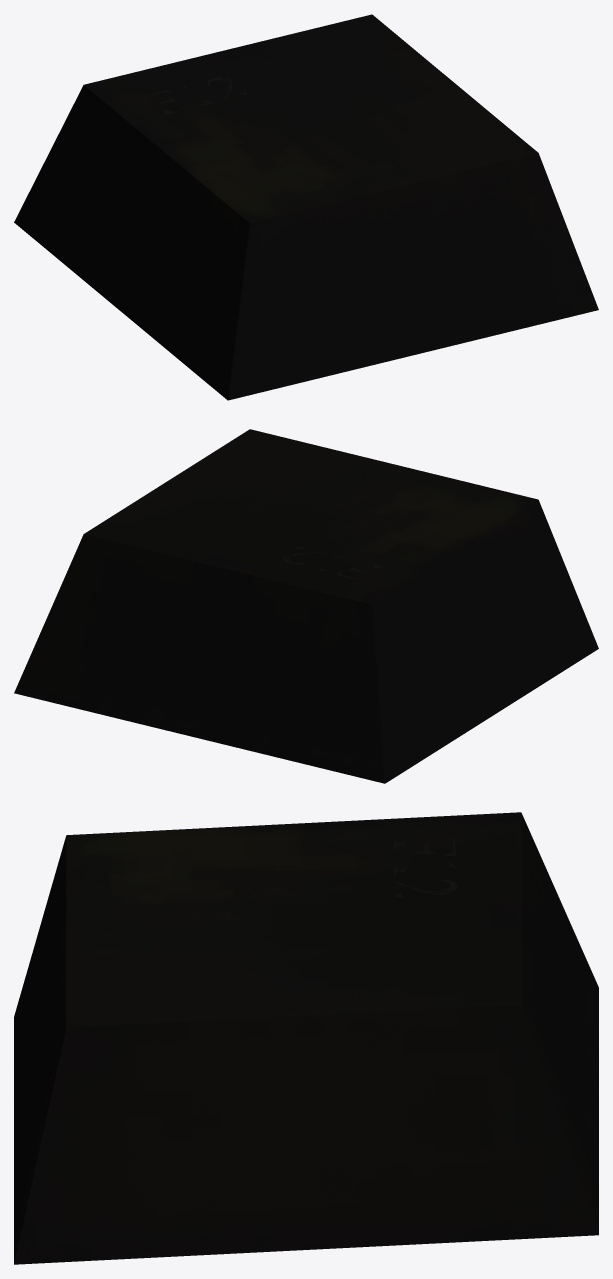
File: link_69__key-75.glb
The picture shows the model from 3 angles, top to bottom: view 1: azimuth 30°, elevation 25°; view 2: azimuth 150°, elevation 25°; view 3: azimuth 270°, elevation 25°; orthographic projection. The views are drawn at different scales.
Parts seen in each view (by area): view 1: world; view 2: world; view 3: world.
Boxes of the visible parts, bbox=[...] form: world: bbox=[14, 14, 598, 400]; world: bbox=[14, 429, 598, 783]; world: bbox=[14, 812, 598, 1264].
Size of the model in its own units: 0.0719 by 0.0315 by 0.0718.
1 material, 1 textured.
